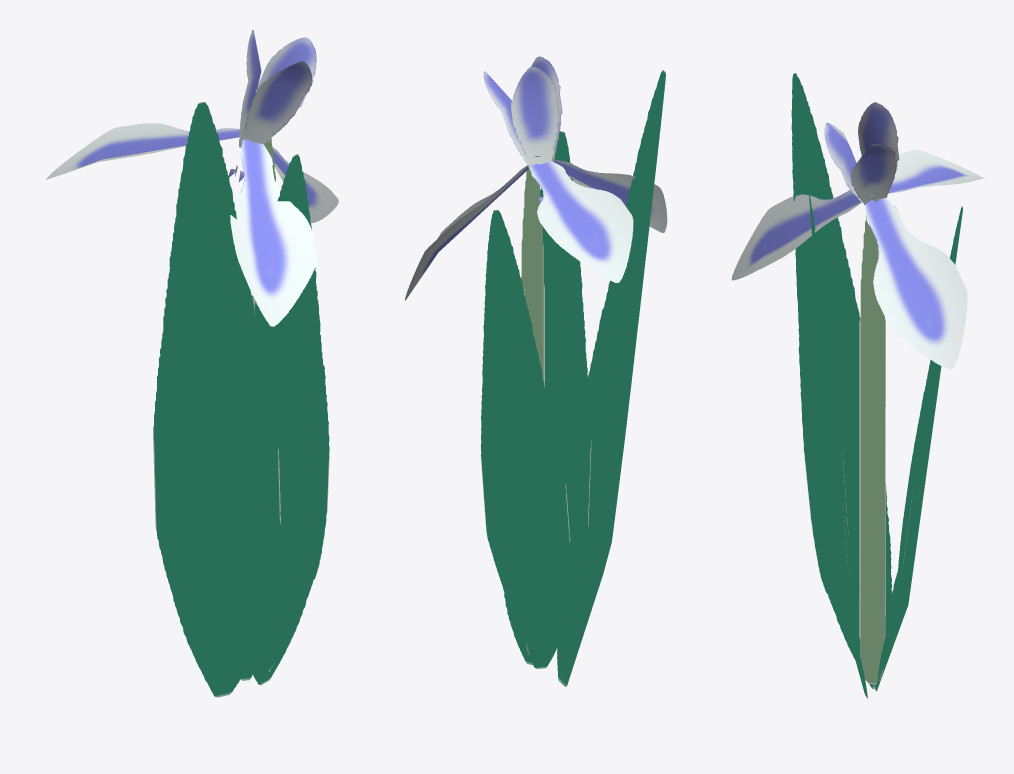
File: Iris_b.fbx
3 renders of one model, left to right at view 1: azimuth 30°, elevation 25°; view 2: azimuth 150°, elevation 25°; view 3: azimuth 270°, elevation 25°, orthographic. The views are drawn at different scales.
Parts seen in each view (by area): view 1: polySurface63; view 2: polySurface63; view 3: polySurface63.
Part boxes in pixels (x1,y1,x2,y2): polySurface63: (46,30,338,697); polySurface63: (405,56,667,686); polySurface63: (731,73,986,698).
Bounding box in the file's own units: 0.2281 × 0.6042 × 0.2218.
